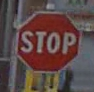stop: (12, 8, 81, 75)
